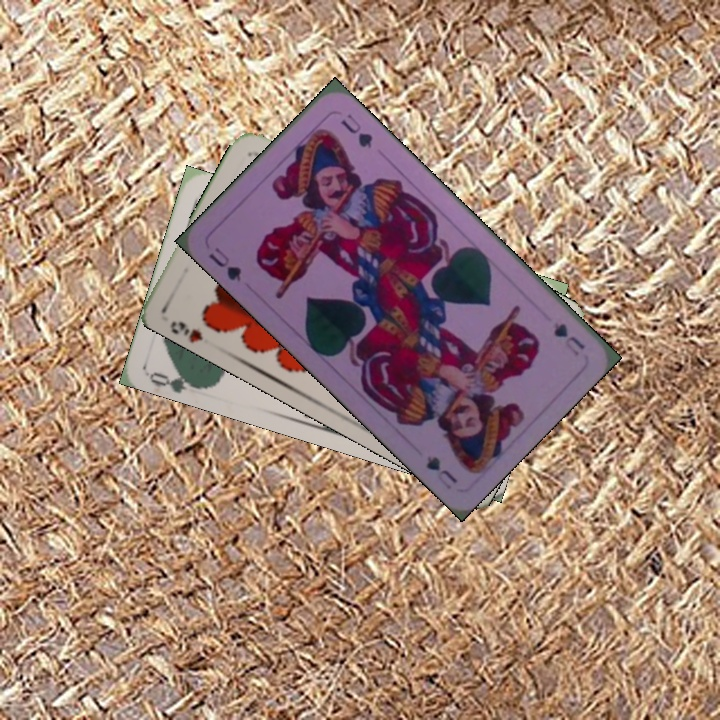GO: (146, 364, 205, 394)
GU: (204, 243, 245, 284), (549, 318, 588, 359)
H9: (165, 316, 206, 344)
